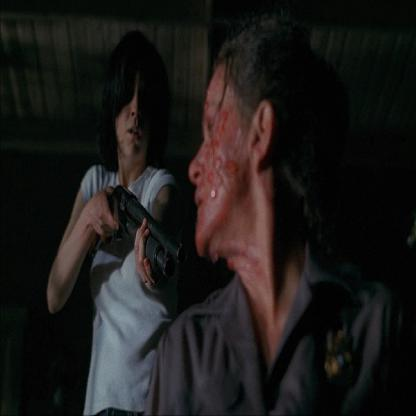Guns: (99, 179, 189, 290)
